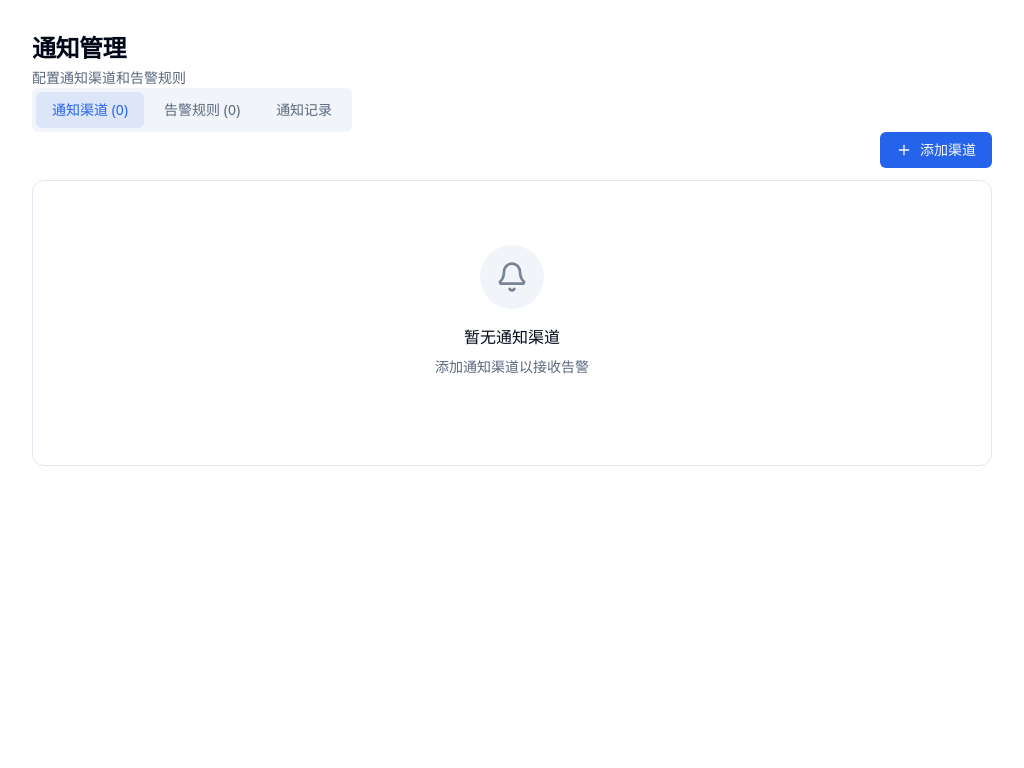
Test case: NotificationsPage › 渠道表单 › 名称为空时保存禁用
This screenshot has width=1024, height=768.
Click the button "添加渠道": coordinates (936, 150) [880,132,992,168]
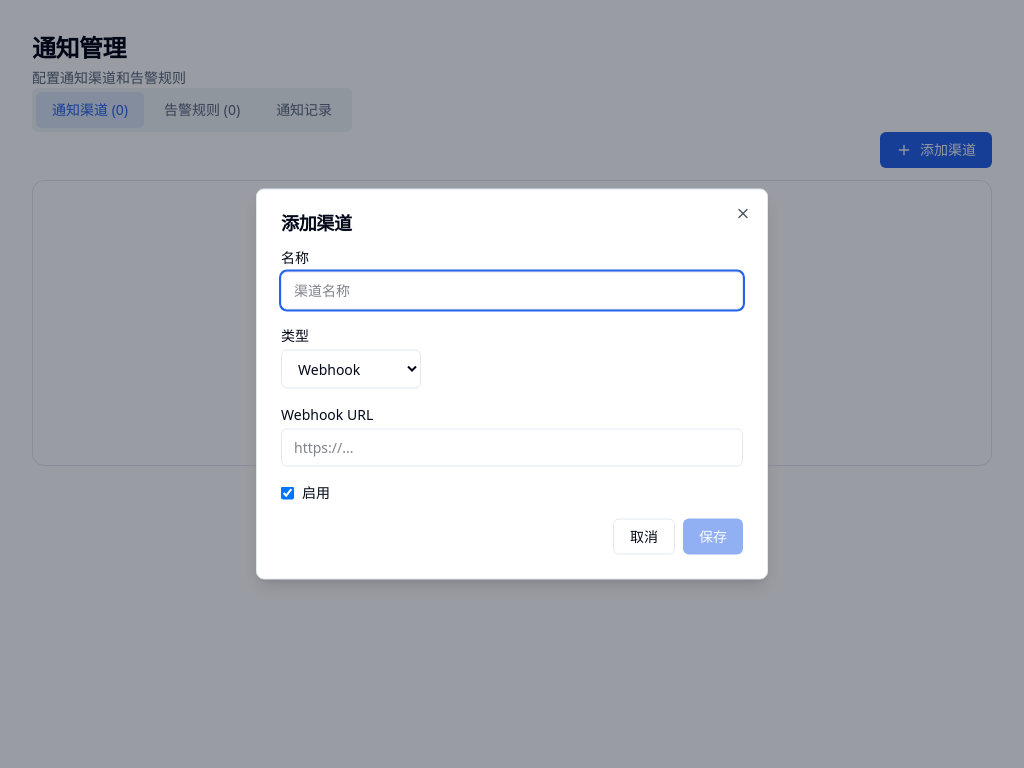
Expected: the button "保存" is disabled, [683,518,743,554]
